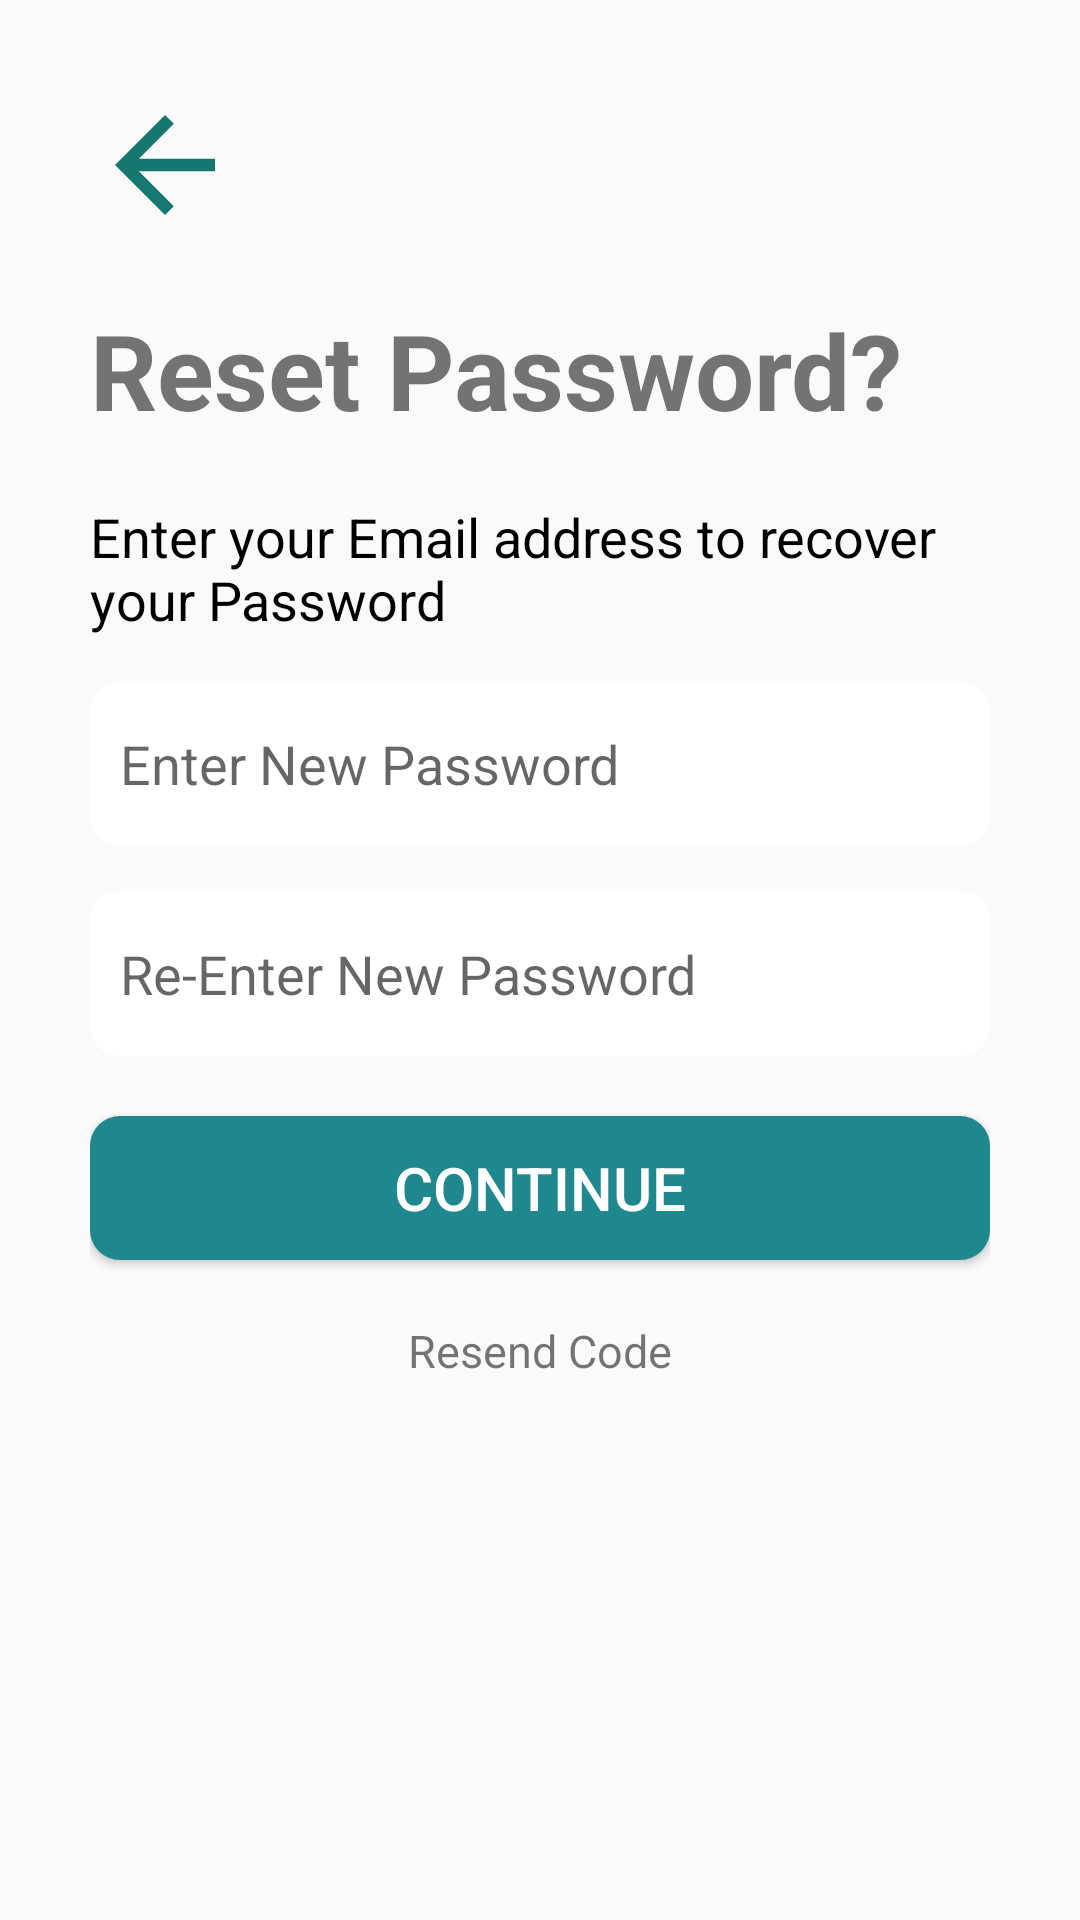

Screen size 1080x1920. Icon name, then its center in pixels as [x,y]:
arrow back: [165,165]
